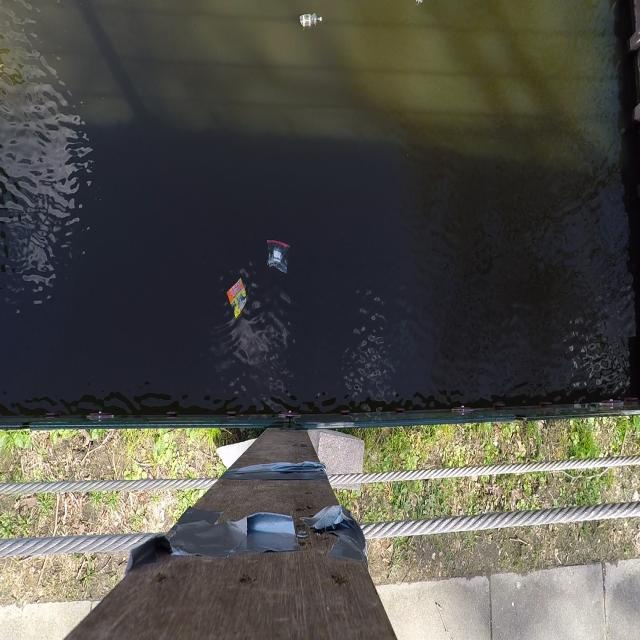Autre plastique: (224, 275, 248, 322)
Bouteille plastique: (296, 10, 325, 34)
Sac plastique: (265, 236, 291, 278)
